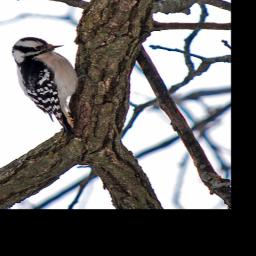Woodpecker: (12, 37, 95, 136)
